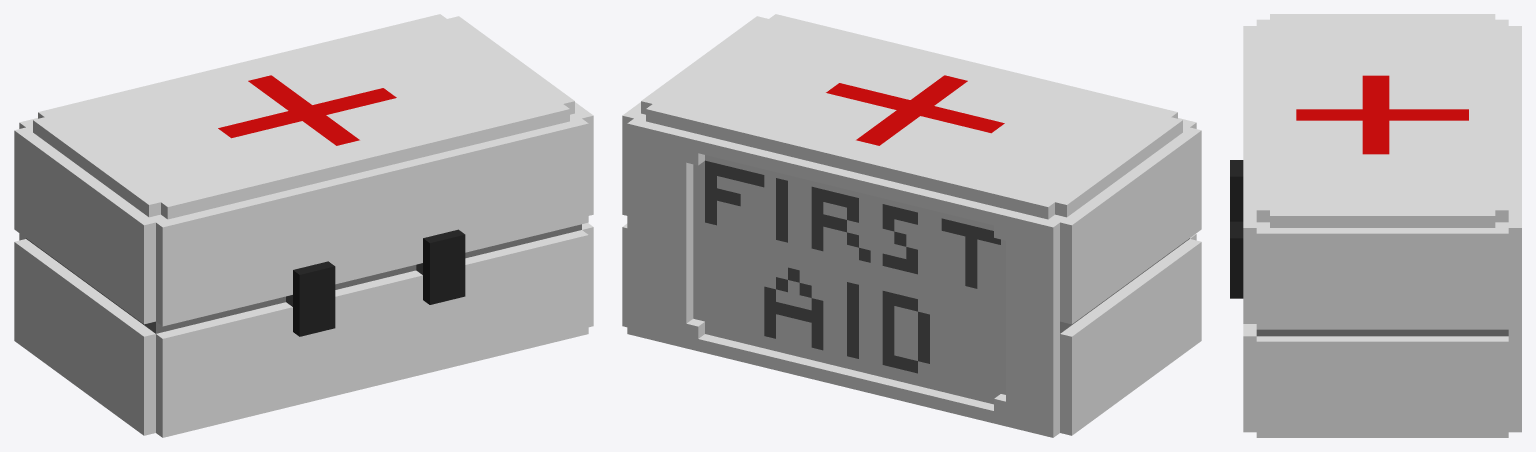
Rendered from Medkit(voxel).obj.
3 renders of one model, left to right at view 1: azimuth 30°, elevation 25°; view 2: azimuth 150°, elevation 25°; view 3: azimuth 270°, elevation 25°, orthographic. The views are drawn at different scales.
Size of the model in its own units: 3.8 by 1.8 by 2.2.
Materials: 1 (1 with a texture image).
